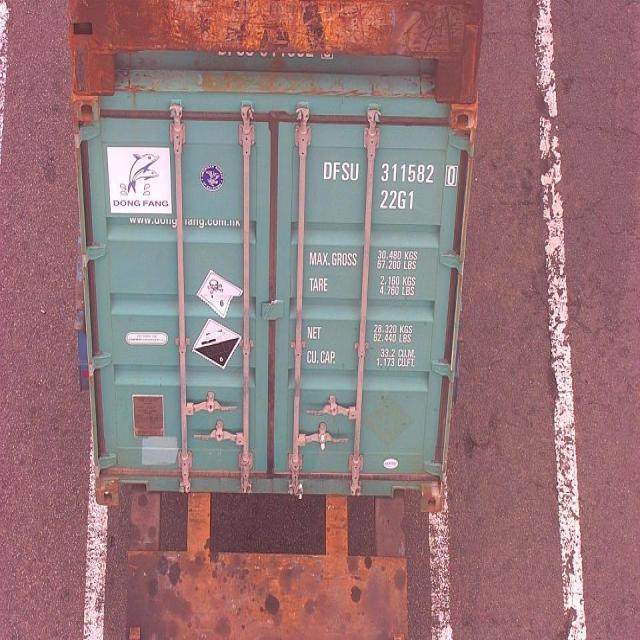ISO: (383, 191, 418, 211)
container_number: (324, 157, 458, 187)
